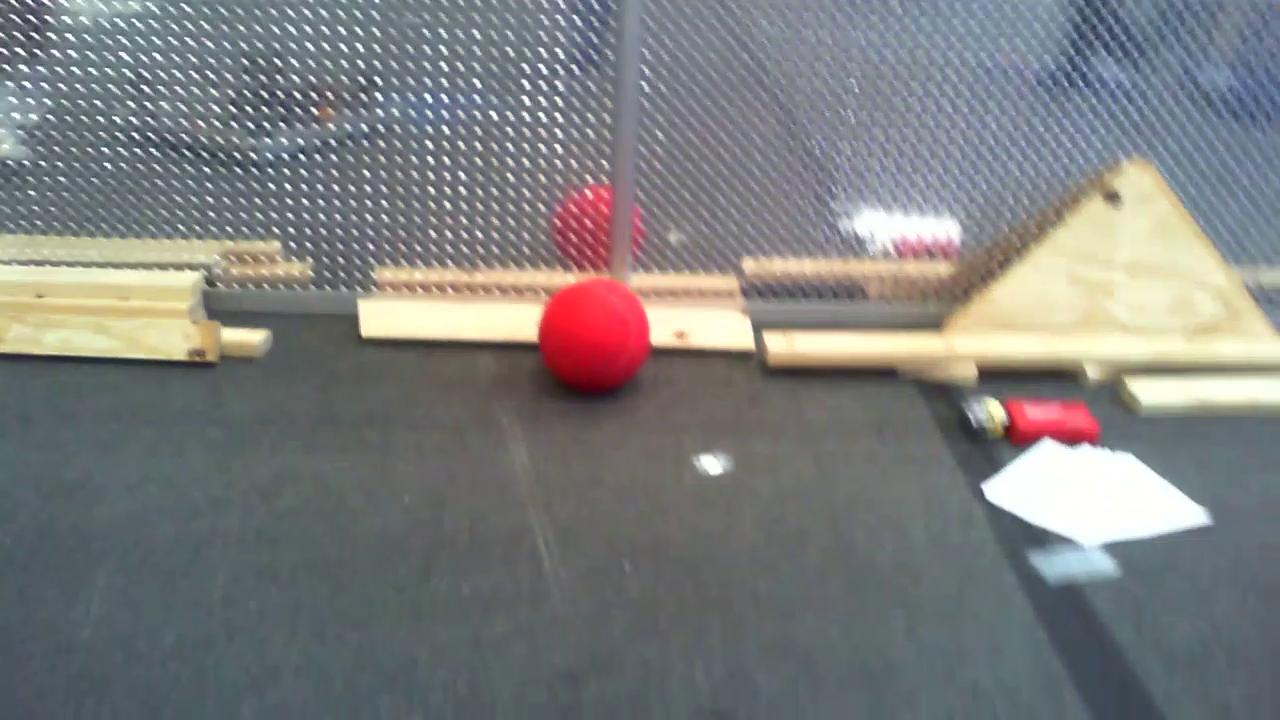Red_Ball: (540, 276, 653, 393), (550, 187, 644, 267)
